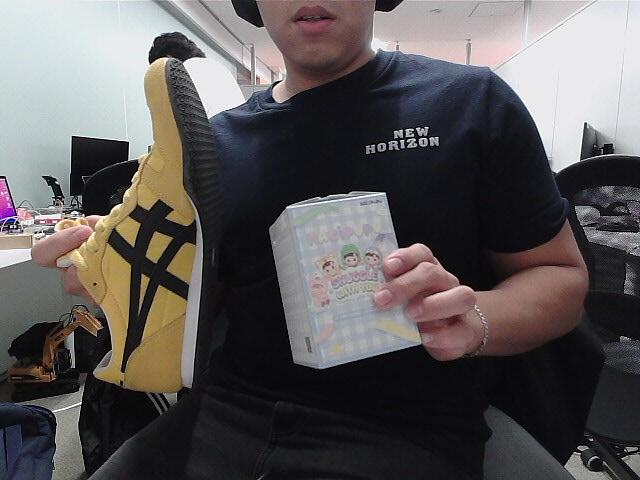Blind_box: (262, 190, 432, 374)
Shoes: (72, 61, 232, 399)
